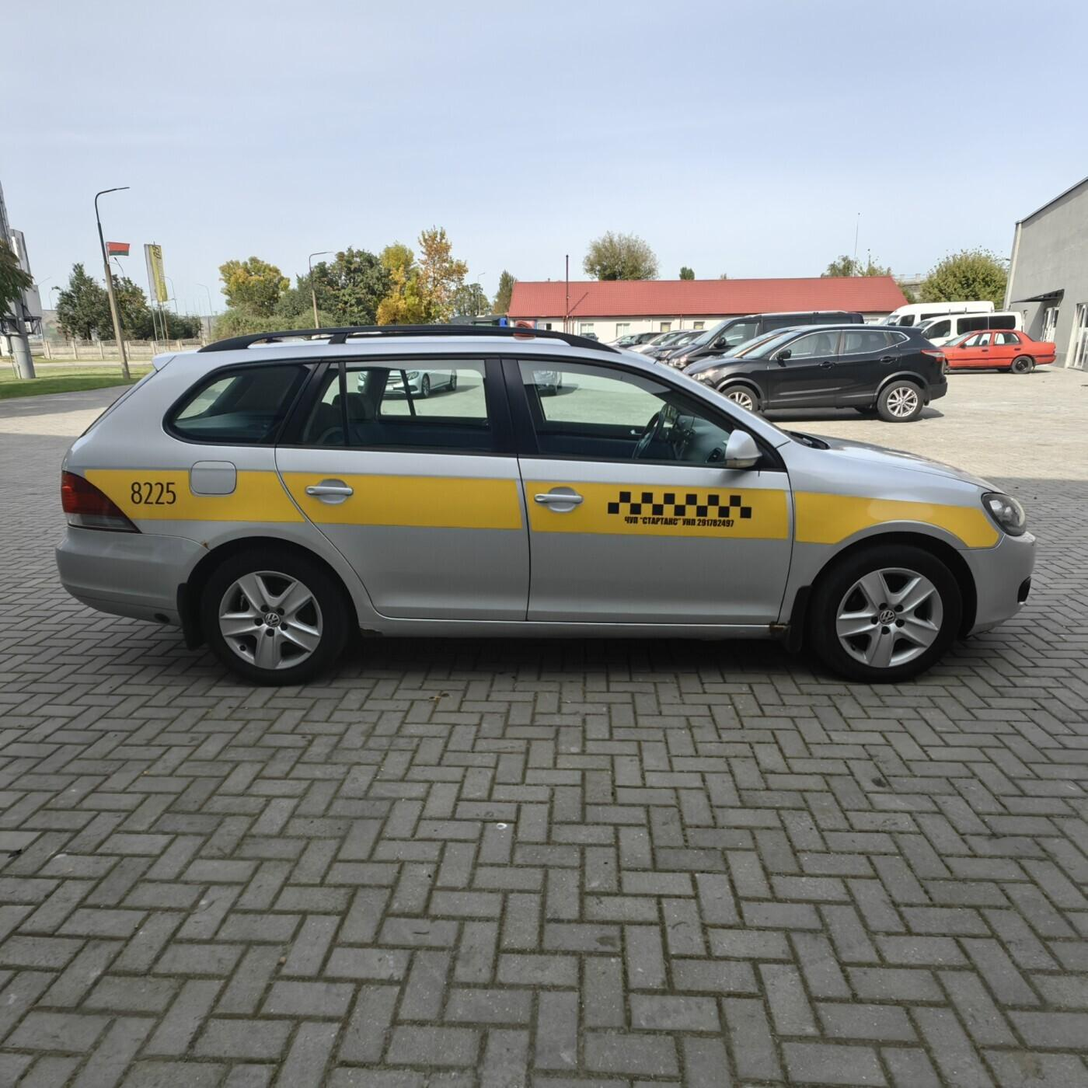Golf_2008-2013: (48, 326, 1037, 696)
